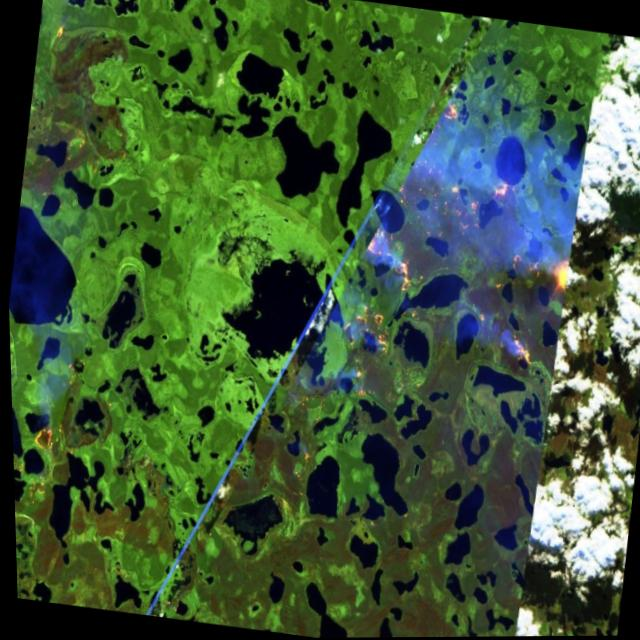fire: (321, 58, 608, 434), (9, 389, 79, 511)
